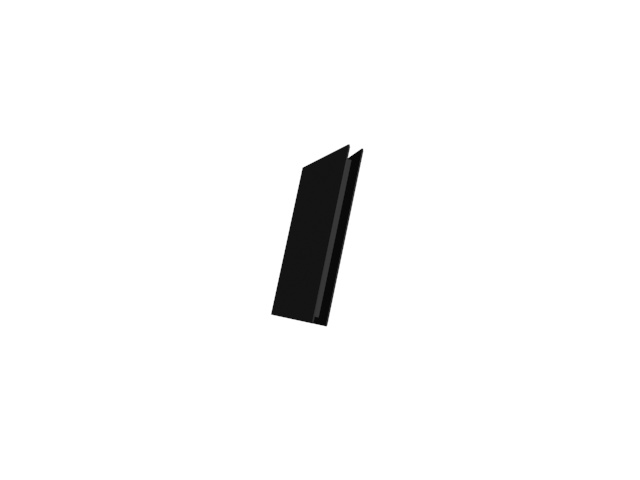ring_binder: (265, 145, 368, 328)
